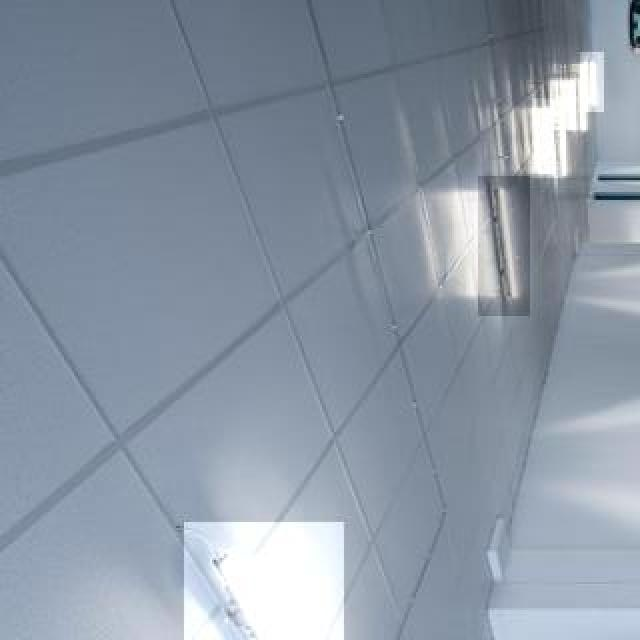fluorescent tube: (216, 572, 310, 640), (491, 186, 534, 317)
